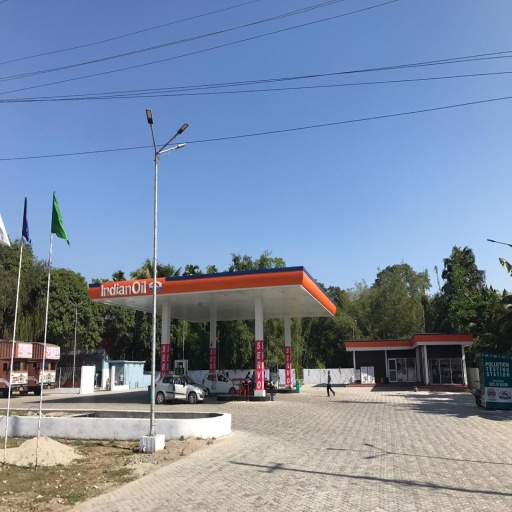roof: (86, 264, 339, 324)
